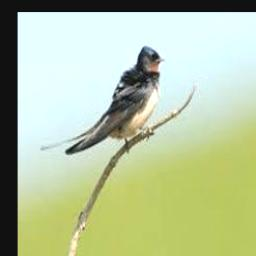Swallow: (40, 46, 164, 156)
